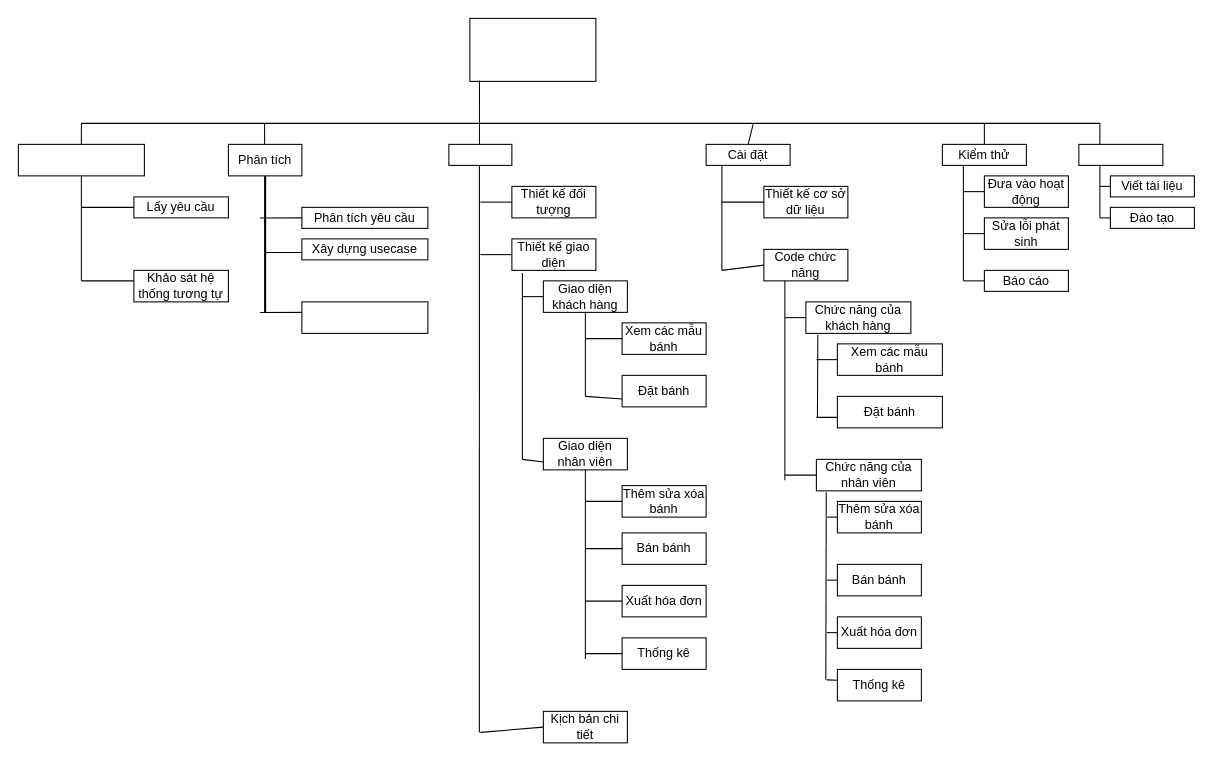
Image size: 1213x761. Some labels were removed from this diagram. The box of each missing label's shape, as (x1, y1, x2, y2) in pixels:
Chuyển giao: (1078, 143, 1163, 165)
Khảo sát: (17, 143, 144, 176)
Thiết kế: (448, 143, 512, 165)
Website của hàng bánh ngọt: (469, 17, 596, 81)
Xây dưng kịch bản chính: (301, 301, 428, 333)
